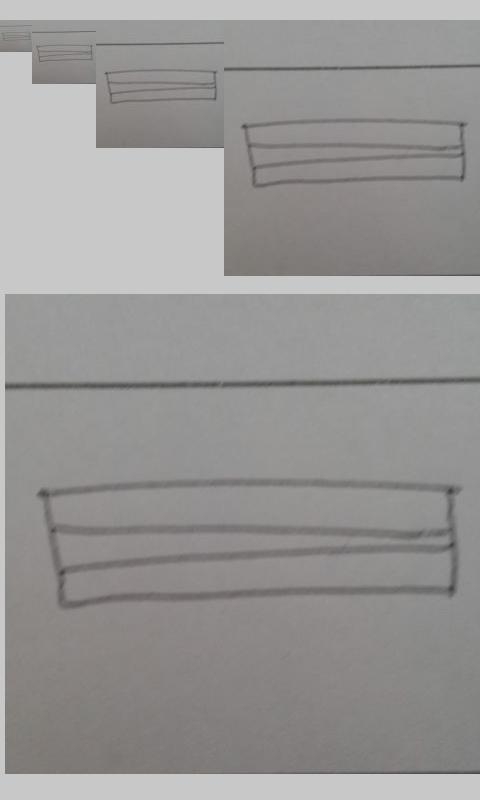list_view: (41, 476, 462, 614), (241, 114, 466, 191), (105, 68, 219, 104), (36, 43, 93, 63), (2, 31, 31, 41)
